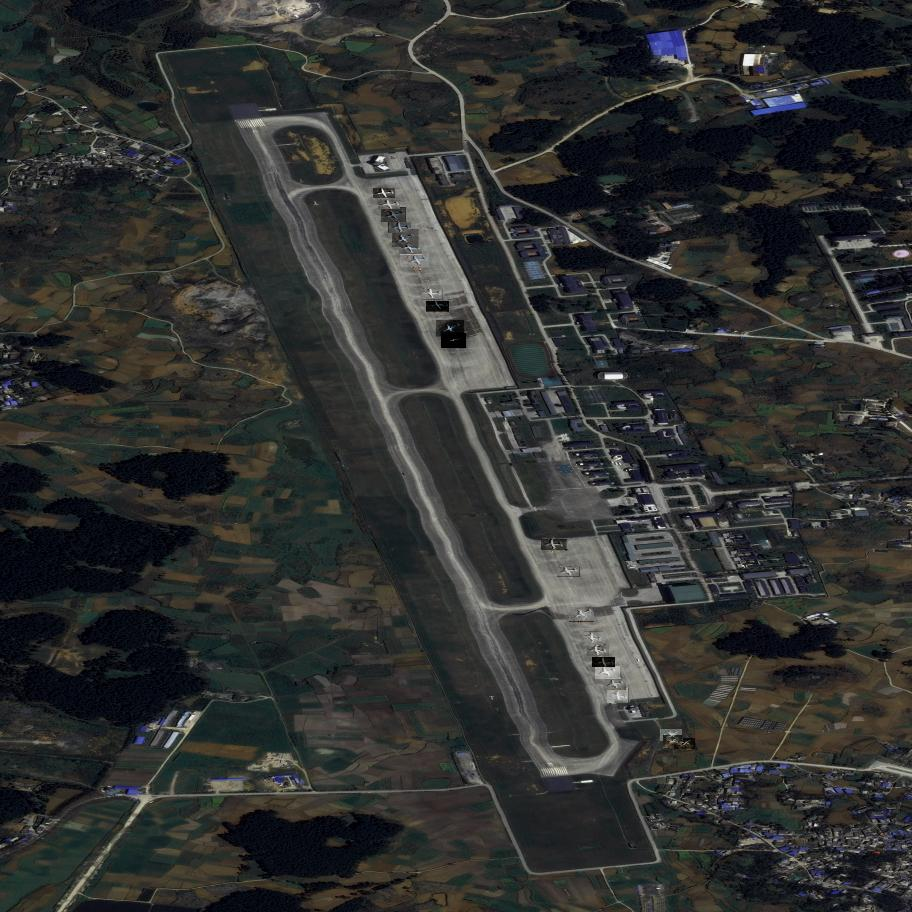plane: (393, 228, 419, 251), (436, 320, 464, 339), (401, 253, 429, 271), (569, 607, 594, 626), (442, 332, 467, 350), (382, 208, 407, 225), (674, 735, 695, 754), (595, 666, 621, 681), (661, 727, 683, 743), (605, 677, 627, 692), (605, 689, 630, 702), (582, 632, 605, 646), (399, 243, 422, 255), (542, 539, 566, 550), (426, 301, 449, 312), (389, 222, 411, 233), (587, 645, 609, 656), (373, 189, 395, 200), (422, 289, 442, 300), (663, 735, 682, 746), (592, 658, 615, 667), (379, 201, 400, 210), (557, 568, 579, 576)
small-vehicle: (435, 22, 437, 24)
